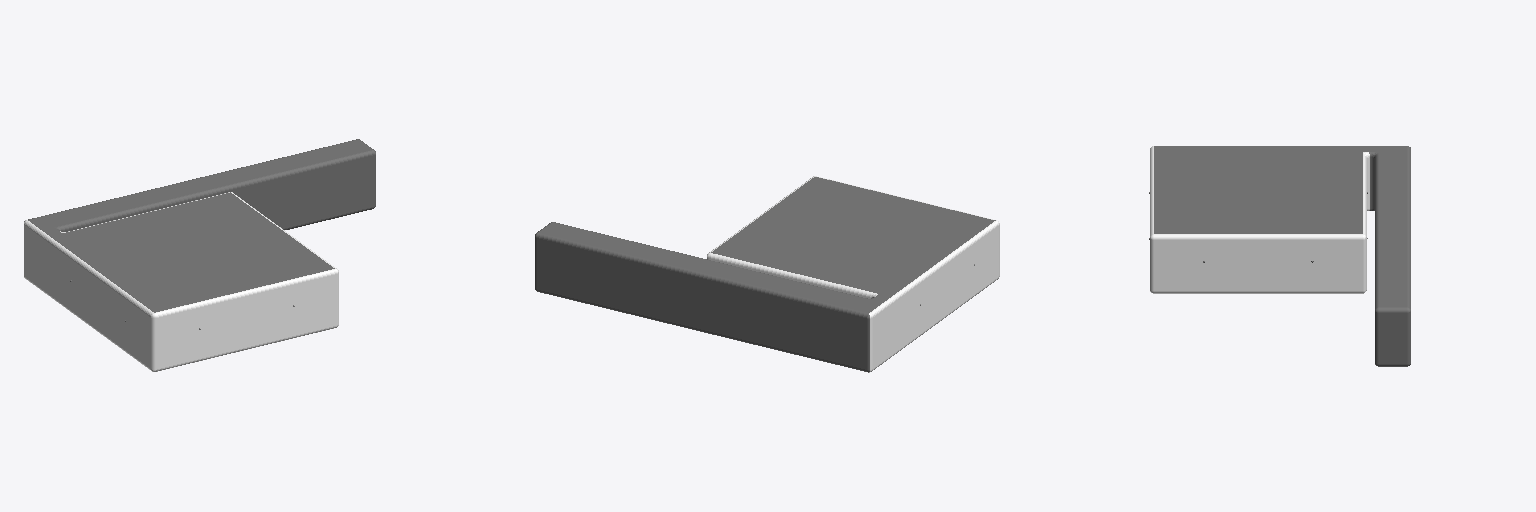
The model's file is ben-objexport2.obj.
3 views of the same model, side by side, from view 1: azimuth 30°, elevation 25°; view 2: azimuth 150°, elevation 25°; view 3: azimuth 270°, elevation 25° (orthographic).
Parts seen in each view (by area): view 1: pasted__pCube1 group; view 2: pasted__pCube1 group; view 3: pasted__pCube1 group.
Part boxes in pixels (x1,y1,x2,y2): pasted__pCube1 group: (24,139,375,371); pasted__pCube1 group: (535,176,999,372); pasted__pCube1 group: (1150,146,1410,366).
Bounding box in the file's own units: 18.02 × 3 × 12.11.